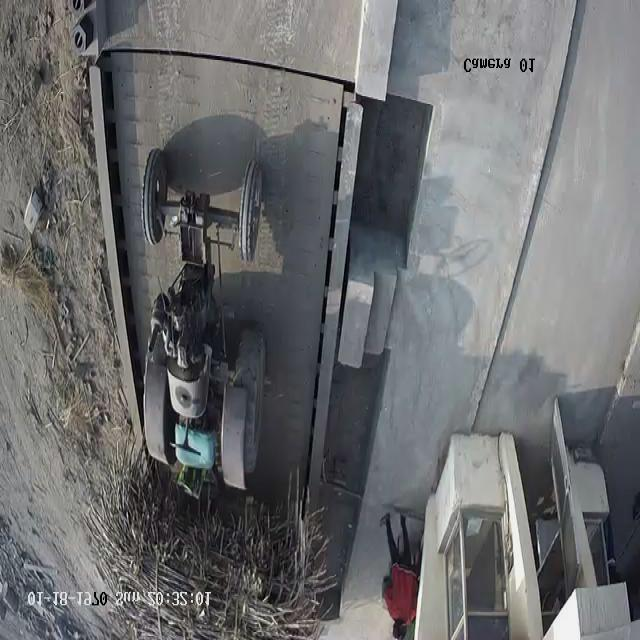Tratores - v5 YOLO V8L 2024-11-13: (143, 148, 271, 498)
